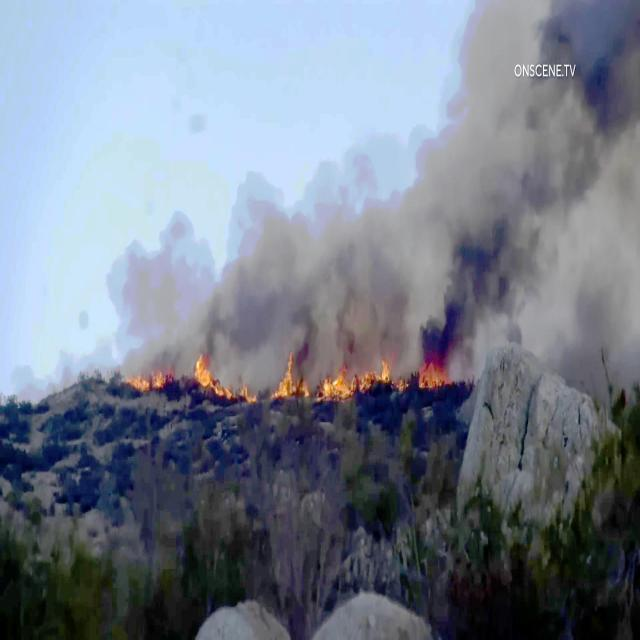Fire: (115, 353, 453, 409)
Smoke: (117, 0, 640, 359)
